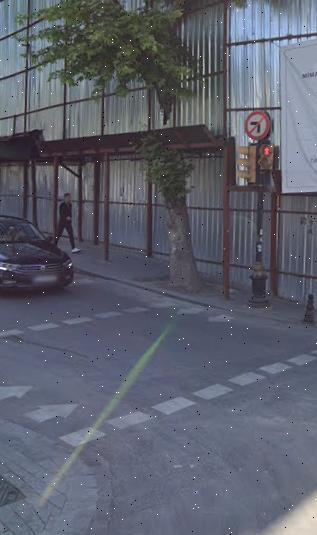leftturnsareforbidden: (246, 112, 270, 140)
